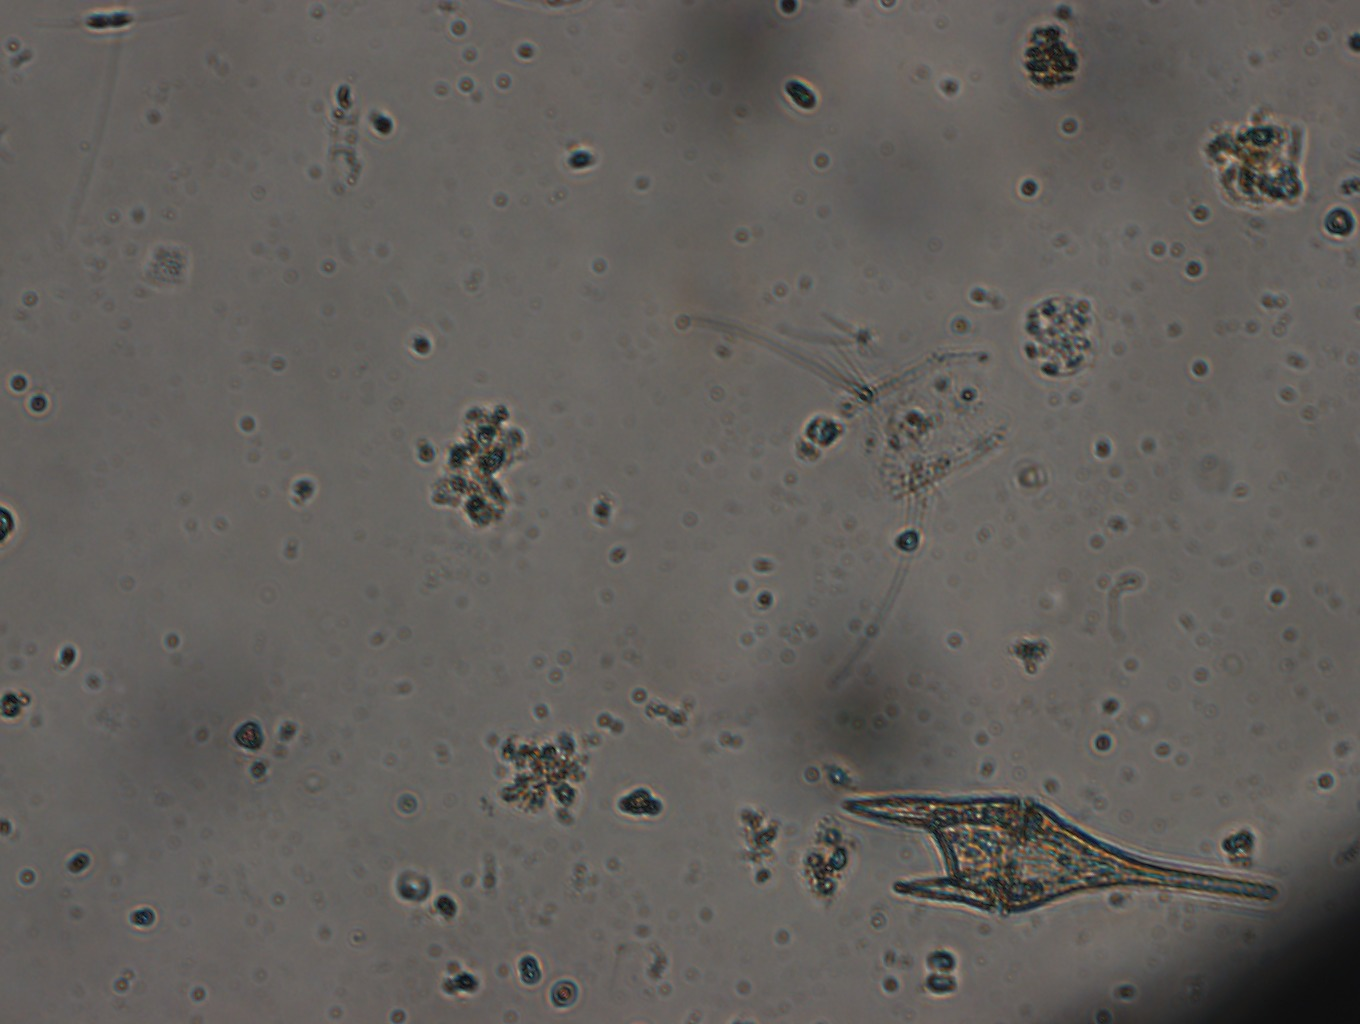ceratium furca: (840, 791, 1282, 914)
